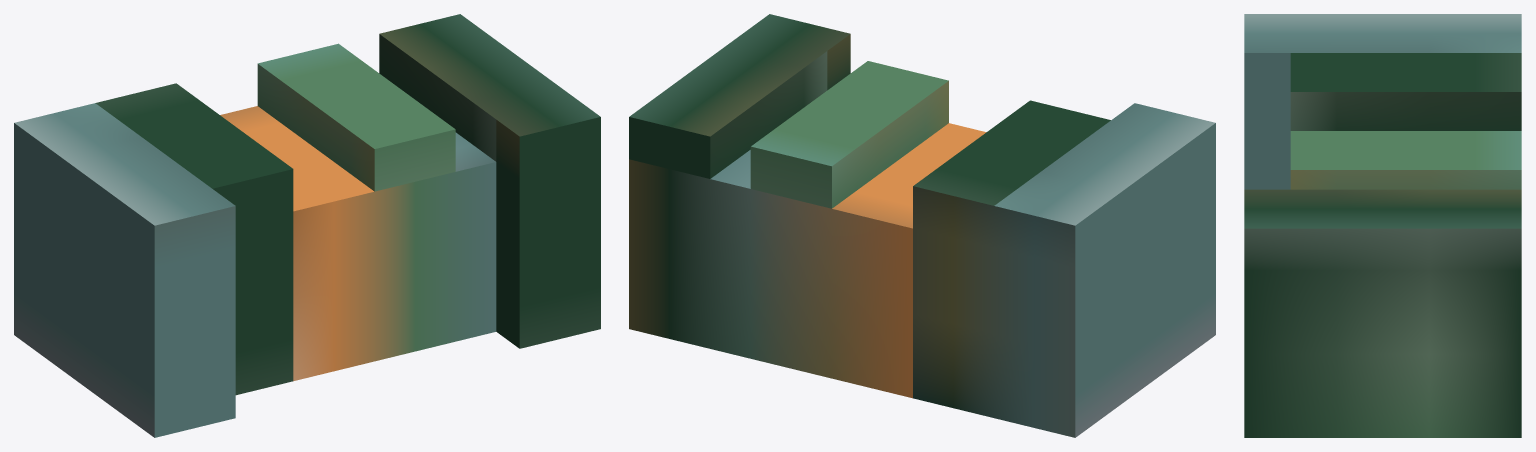
The model's file is AssortedBooks_A_00.fbx.
3 views of the same model, side by side, from view 1: azimuth 30°, elevation 25°; view 2: azimuth 150°, elevation 25°; view 3: azimuth 270°, elevation 25° (orthographic).
Visible parts, largest first — view 1: AssortedBooks_A_00; view 2: AssortedBooks_A_00; view 3: AssortedBooks_A_00.
Boxes of the visible parts, bbox=[...] form: AssortedBooks_A_00: bbox=[14, 14, 600, 437]; AssortedBooks_A_00: bbox=[629, 14, 1215, 437]; AssortedBooks_A_00: bbox=[1244, 14, 1521, 437].
Size of the model in its own units: 55 by 30 by 25.
Materials: 1 (1 with a texture image).
